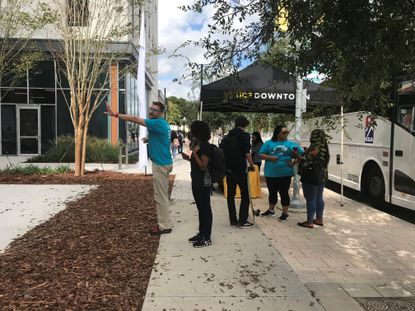Person: (102, 100, 175, 235), (179, 120, 225, 249), (257, 125, 305, 222), (217, 115, 258, 228), (296, 128, 330, 227)
